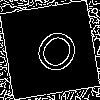O: (25, 25, 84, 86)
